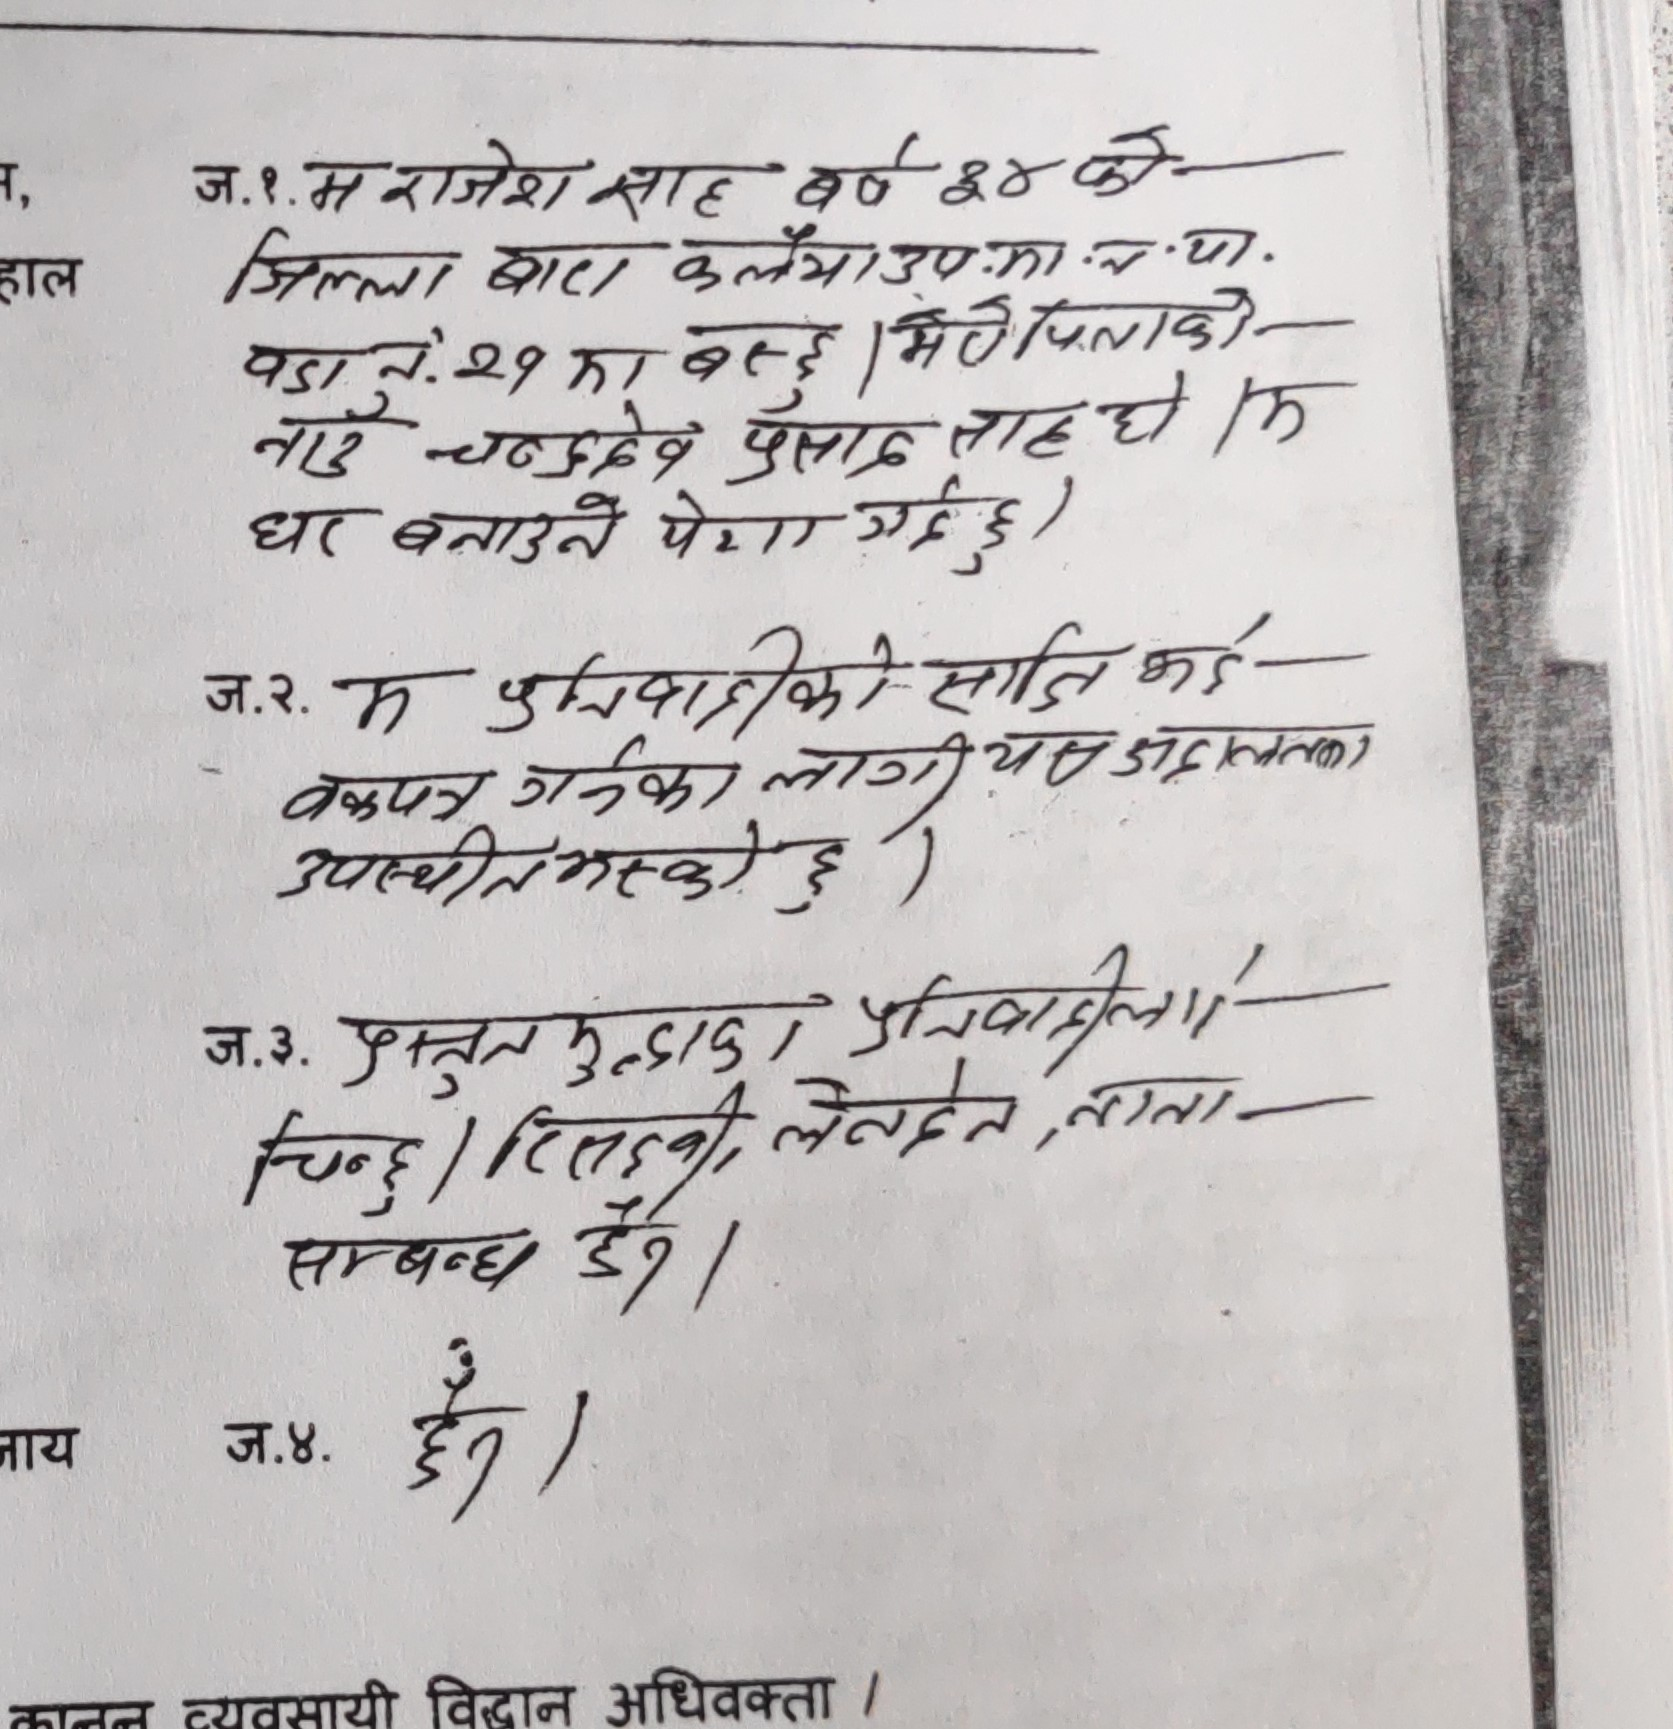text: (483, 621, 903, 733), (840, 942, 1275, 1047), (483, 1084, 756, 1179), (881, 222, 1270, 286), (423, 401, 704, 485), (762, 1073, 1029, 1159), (556, 997, 821, 1082), (282, 821, 553, 905), (275, 1218, 548, 1297), (235, 1110, 423, 1223), (1110, 712, 1387, 787), (499, 735, 744, 820), (222, 224, 452, 313), (549, 814, 770, 905), (403, 1328, 511, 1511), (918, 617, 1113, 719), (332, 1000, 536, 1098), (758, 729, 978, 812), (387, 492, 636, 565), (1023, 286, 1255, 360), (671, 309, 843, 408), (857, 480, 1028, 577), (380, 133, 573, 215), (671, 221, 880, 292), (647, 488, 826, 563), (275, 761, 489, 821), (1128, 607, 1272, 695), (732, 411, 914, 479), (482, 233, 644, 309), (1062, 1068, 1238, 1138), (245, 397, 381, 485), (891, 289, 1011, 377), (579, 159, 745, 222), (1066, 122, 1179, 210), (792, 131, 915, 210), (941, 397, 1085, 463), (983, 722, 1114, 790), (1207, 364, 1310, 449), (935, 147, 1053, 216), (236, 330, 352, 400), (573, 1189, 651, 1287), (1097, 374, 1188, 455), (451, 333, 553, 406), (244, 500, 363, 560), (343, 667, 428, 741), (776, 834, 850, 919), (562, 337, 656, 398), (292, 154, 375, 215), (367, 335, 437, 384)
